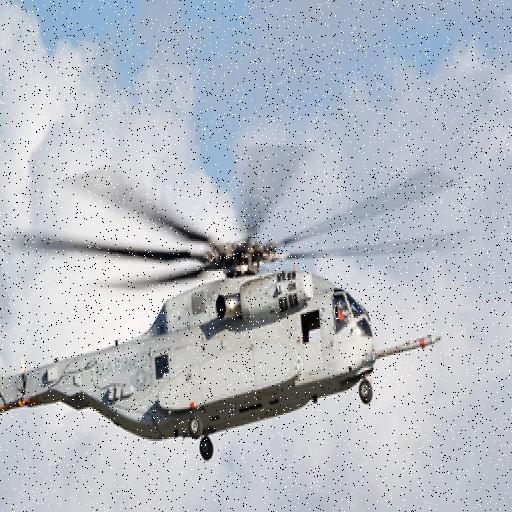helicopter: (1, 136, 467, 468)
